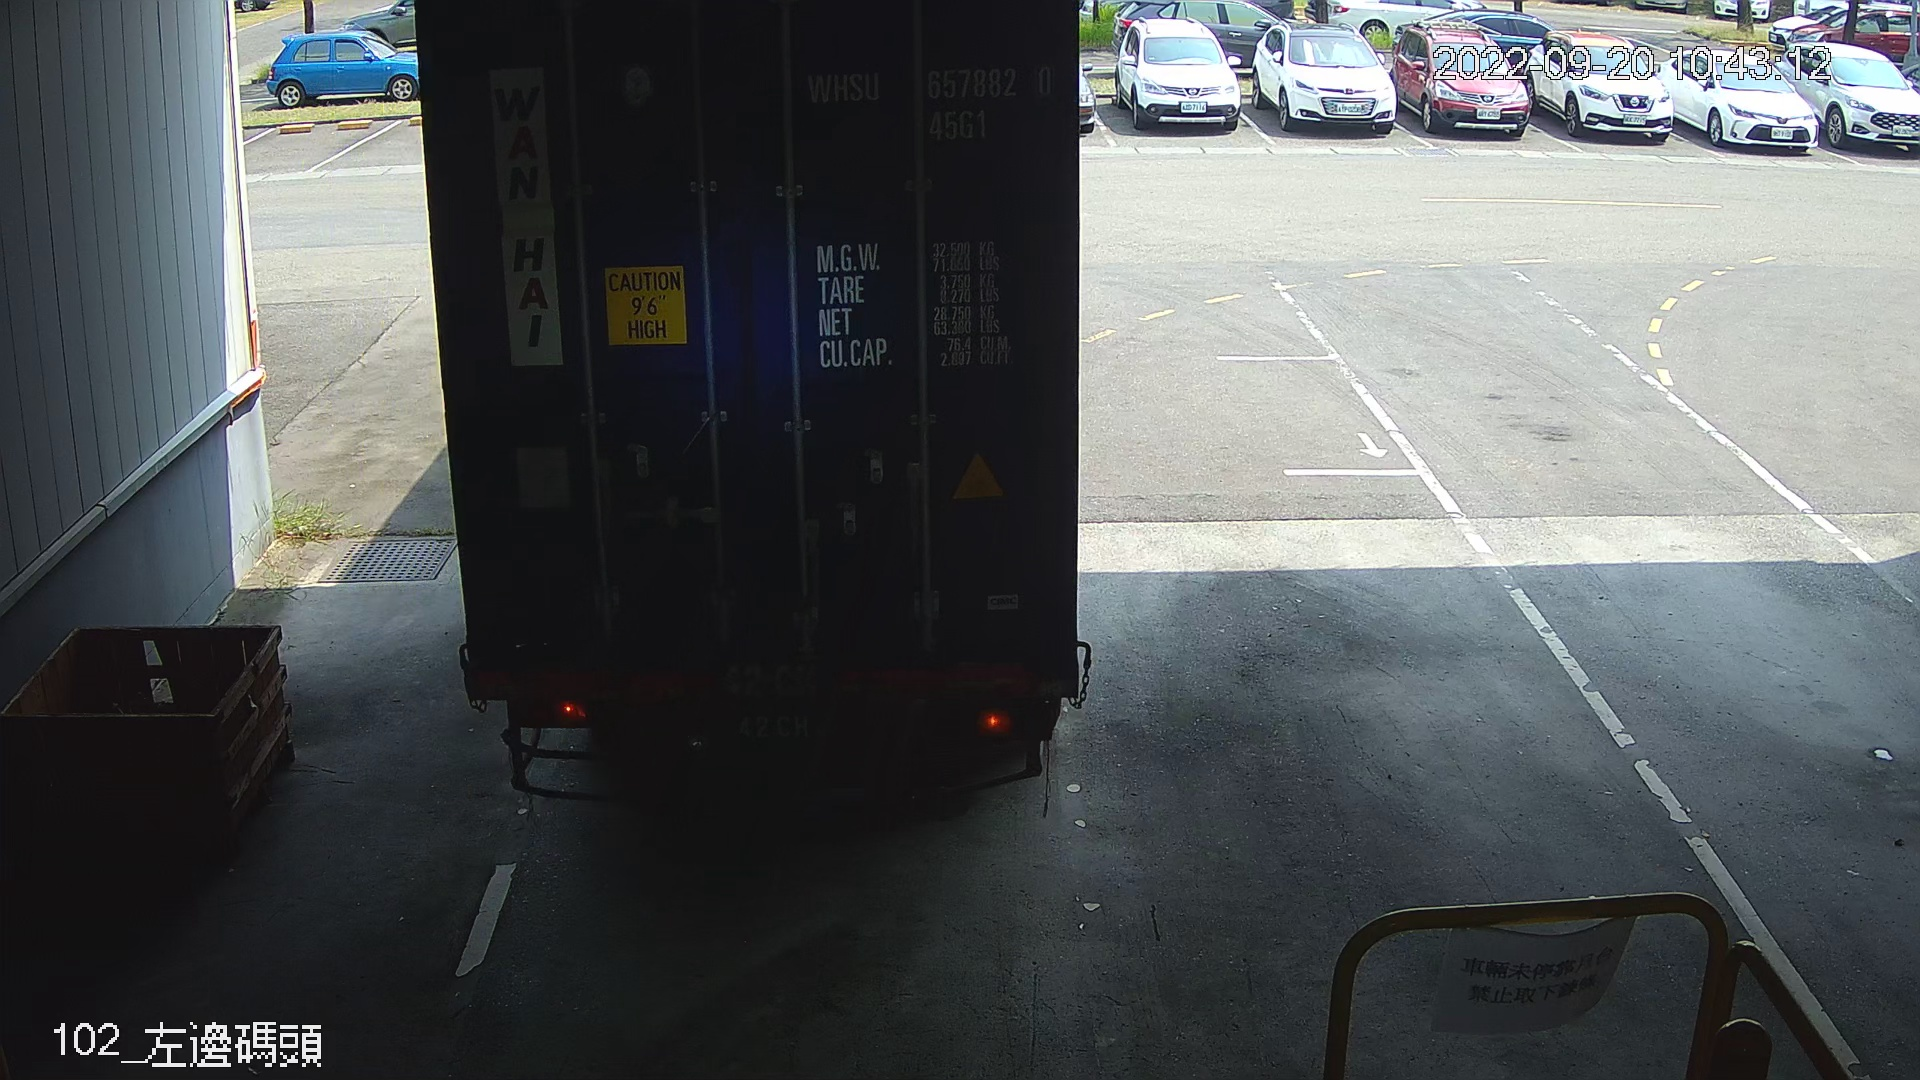container: (795, 57, 1062, 152)
